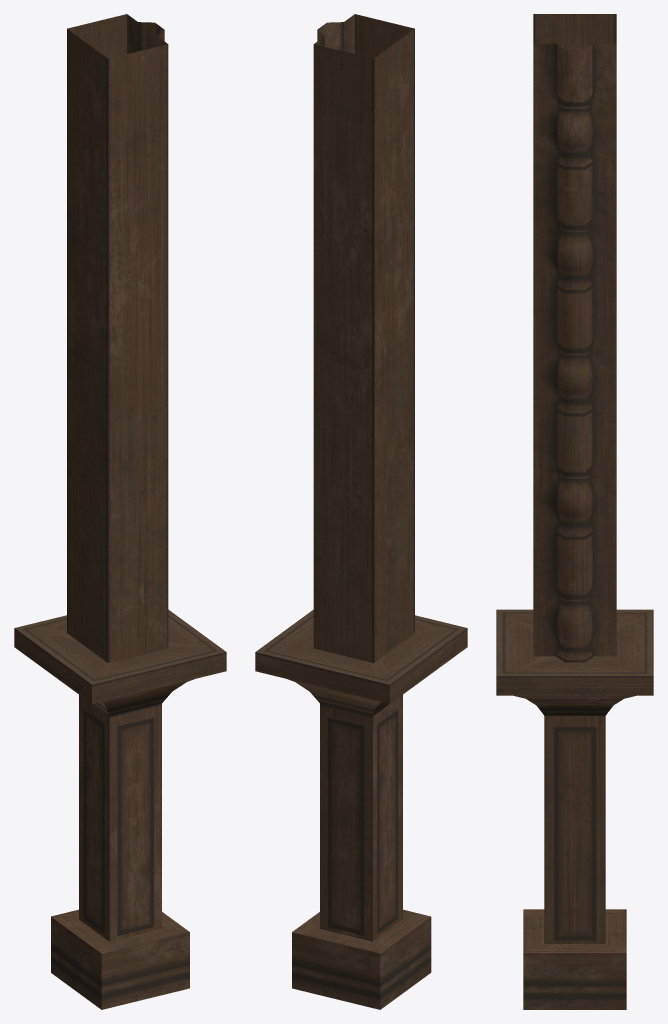
The model's file is TowerOverhang_Column.fbx.
The picture shows the model from 3 angles, left to right: view 1: azimuth 30°, elevation 25°; view 2: azimuth 150°, elevation 25°; view 3: azimuth 270°, elevation 25°; orthographic projection.
Parts seen in each view (by area): view 1: TowerOverhangColumn; view 2: TowerOverhangColumn; view 3: TowerOverhangColumn.
Part boxes in pixels (x1=…): TowerOverhangColumn: x1=14, y1=14, x2=226, y2=1009; TowerOverhangColumn: x1=255, y1=14, x2=467, y2=1009; TowerOverhangColumn: x1=496, y1=14, x2=653, y2=1009.
Bounding box in the file's own units: 31.45 × 211 × 31.45.
